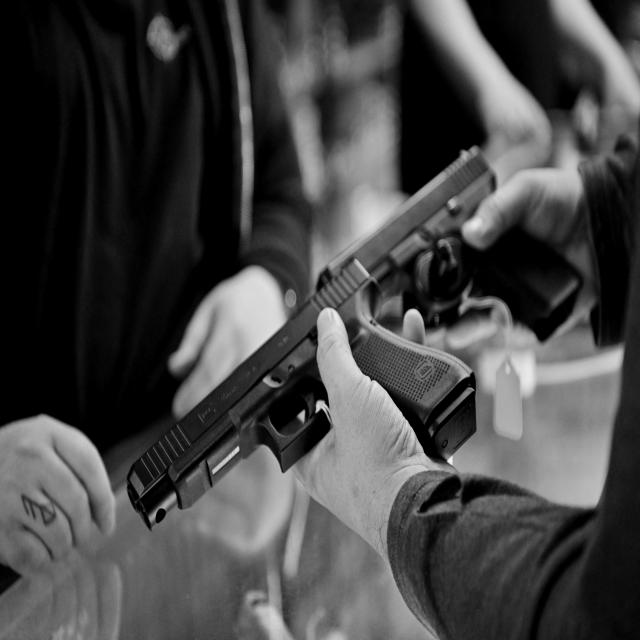Hand-Gun: (128, 243, 476, 608), (348, 128, 586, 362)
